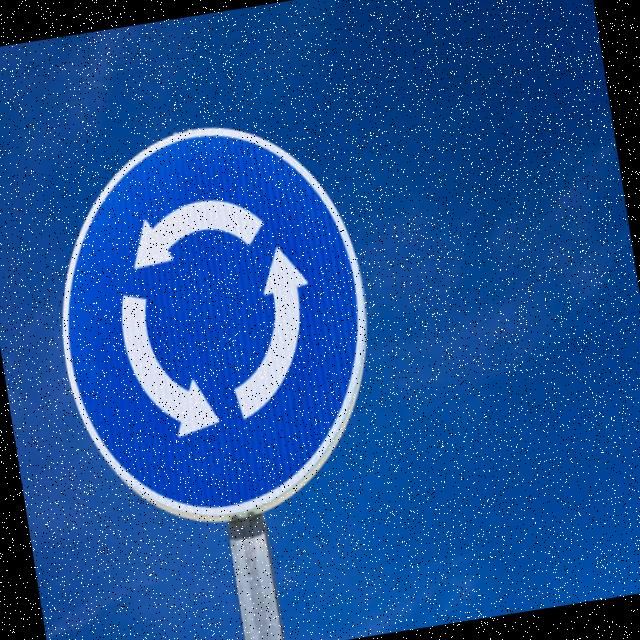round_about: (28, 99, 400, 548)
